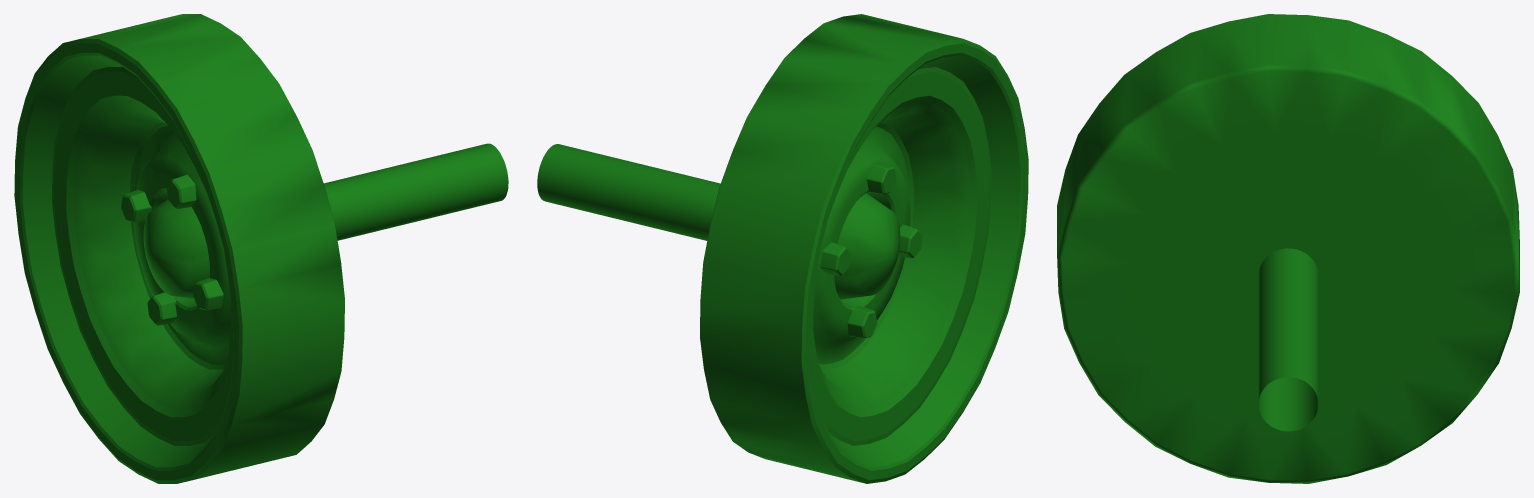
The model's file is TankFrontWheelRight.obj.
The picture shows the model from 3 angles, left to right: view 1: azimuth 30°, elevation 25°; view 2: azimuth 150°, elevation 25°; view 3: azimuth 270°, elevation 25°; orthographic projection.
Visible parts, largest first — view 1: TankFrontWheelRight_Untitled.015; view 2: TankFrontWheelRight_Untitled.015; view 3: TankFrontWheelRight_Untitled.015.
Part boxes in pixels (left/top/right/bottom): TankFrontWheelRight_Untitled.015: left=14, top=14, right=508, bottom=483; TankFrontWheelRight_Untitled.015: left=537, top=14, right=1028, bottom=483; TankFrontWheelRight_Untitled.015: left=1057, top=14, right=1519, bottom=483.
Size of the model in its own units: 0.752 by 0.8109 by 0.8109.
